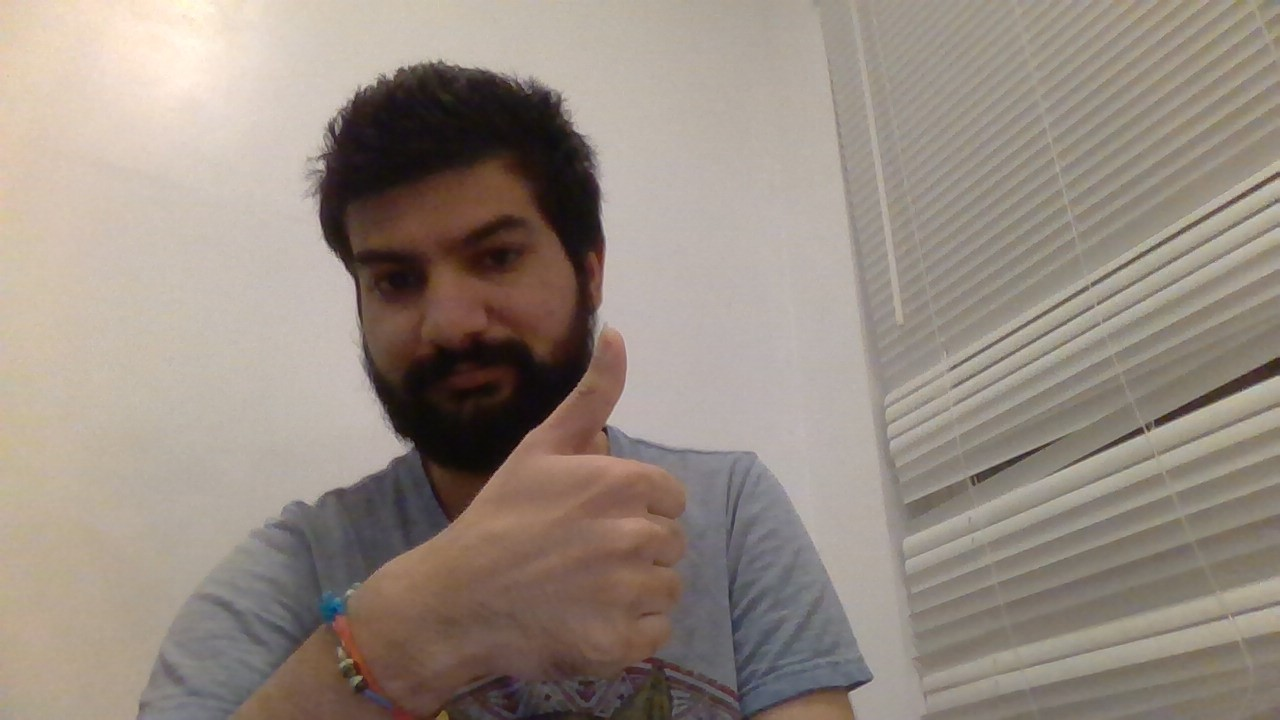up: (511, 321, 693, 679)
